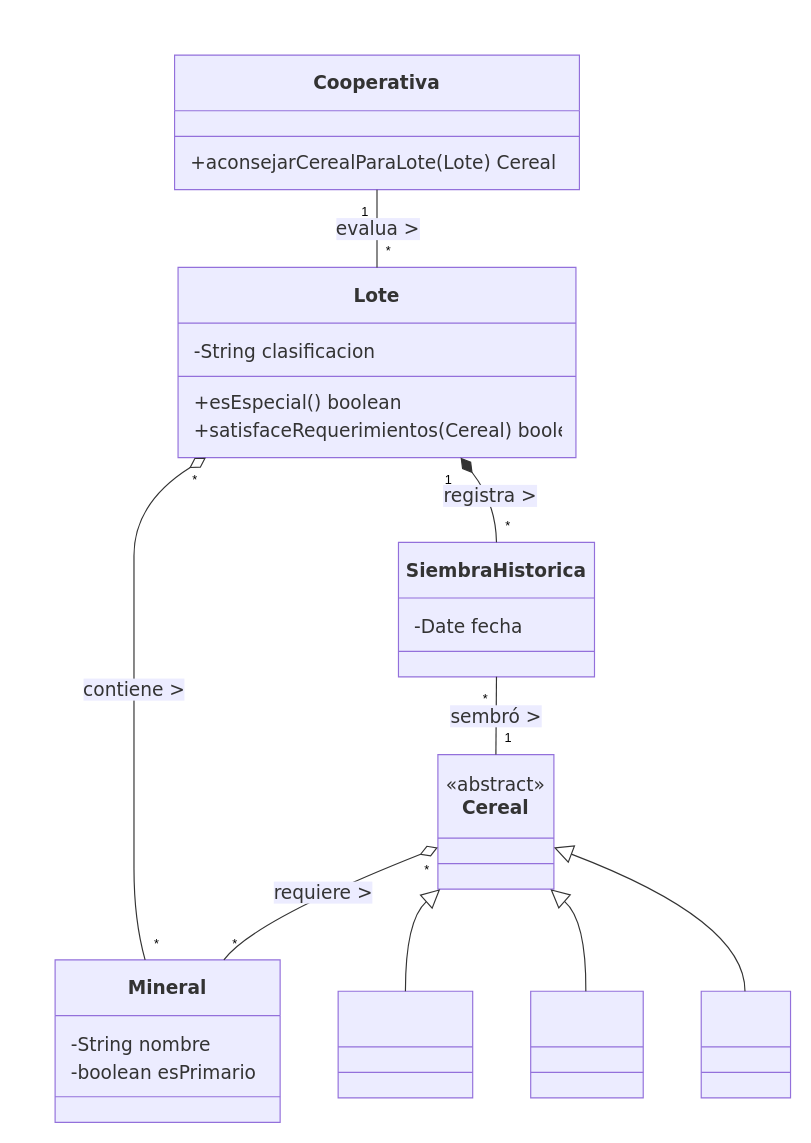
The diagram is 811 pixels wide and 1143 high, and some of its shapes have lost their labels. Each missing label, with the centre of its shape:
"GranoFino" goes at point (586, 1044).
"GranoGrueso" goes at point (405, 1044).
"Pastura" goes at point (745, 1044).
